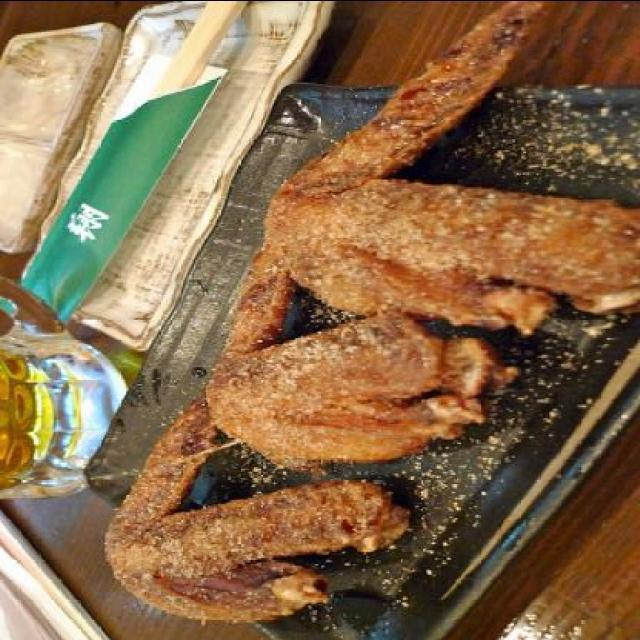Deep fried chicken wing: (106, 52, 629, 606)
